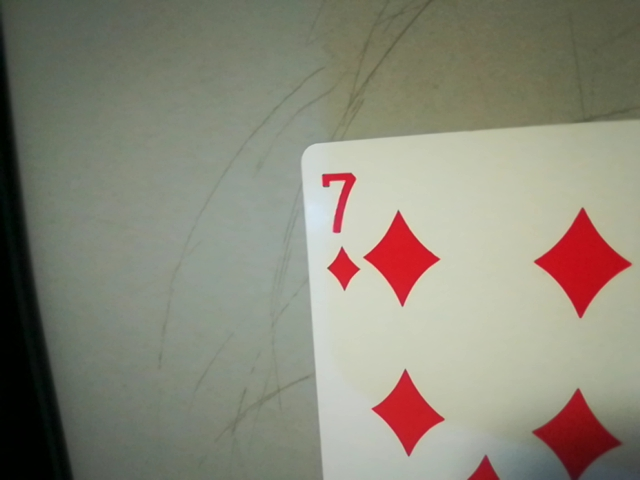fk 7: (307, 157, 364, 296)
